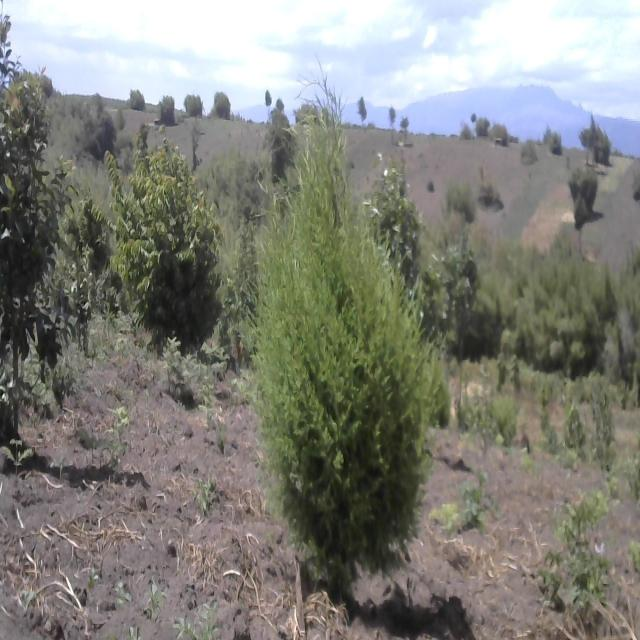Hass Avocado: (0, 16, 105, 476)
cedrus: (242, 84, 460, 637)
